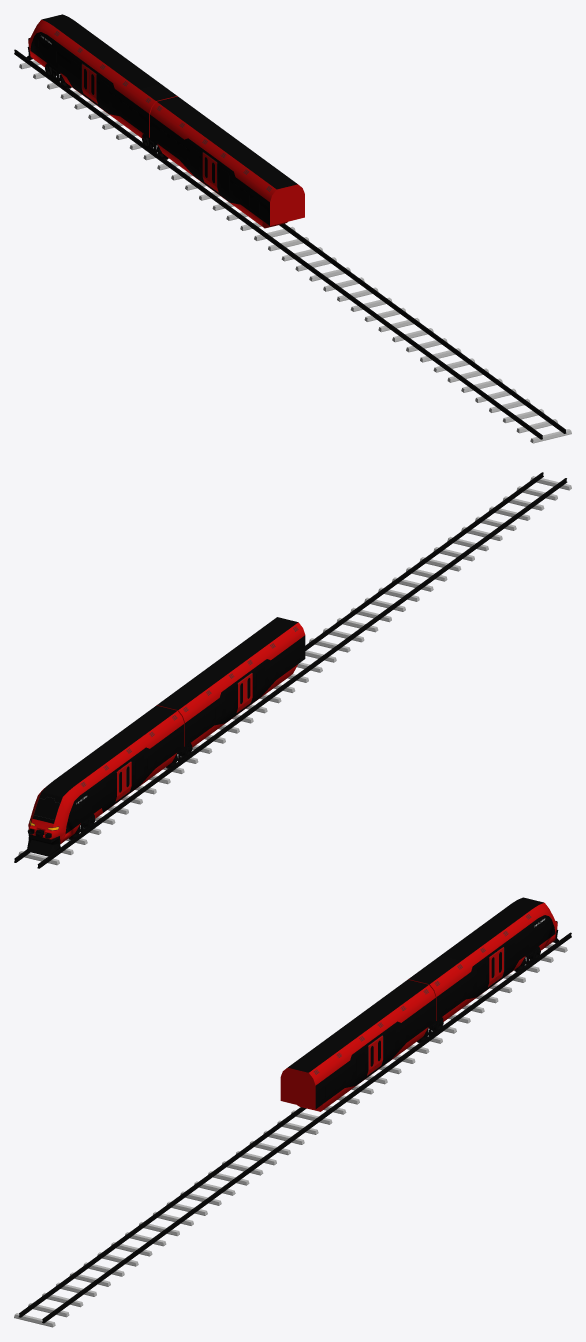
Rendered from McFace.FBX.
3 views of the same model, one above another, from view 1: azimuth 30°, elevation 25°; view 2: azimuth 150°, elevation 25°; view 3: azimuth 330°, elevation 25° (orthographic).
Parts seen in each view (by area): view 1: Down, Second, Main; view 2: Main, Down, Second; view 3: Down, Second, Main.
Boxes of the visible parts, bbox=[...] form: Down: bbox=[14, 49, 571, 443]; Second: bbox=[150, 96, 304, 228]; Main: bbox=[26, 14, 177, 138]; Main: bbox=[27, 705, 184, 856]; Down: bbox=[14, 472, 571, 868]; Second: bbox=[156, 617, 305, 747]; Down: bbox=[14, 932, 571, 1327]; Second: bbox=[280, 979, 435, 1111]; Main: bbox=[408, 897, 558, 1021].
Bounding box in the file's own units: 0.2556 × 0.3663 × 6.
